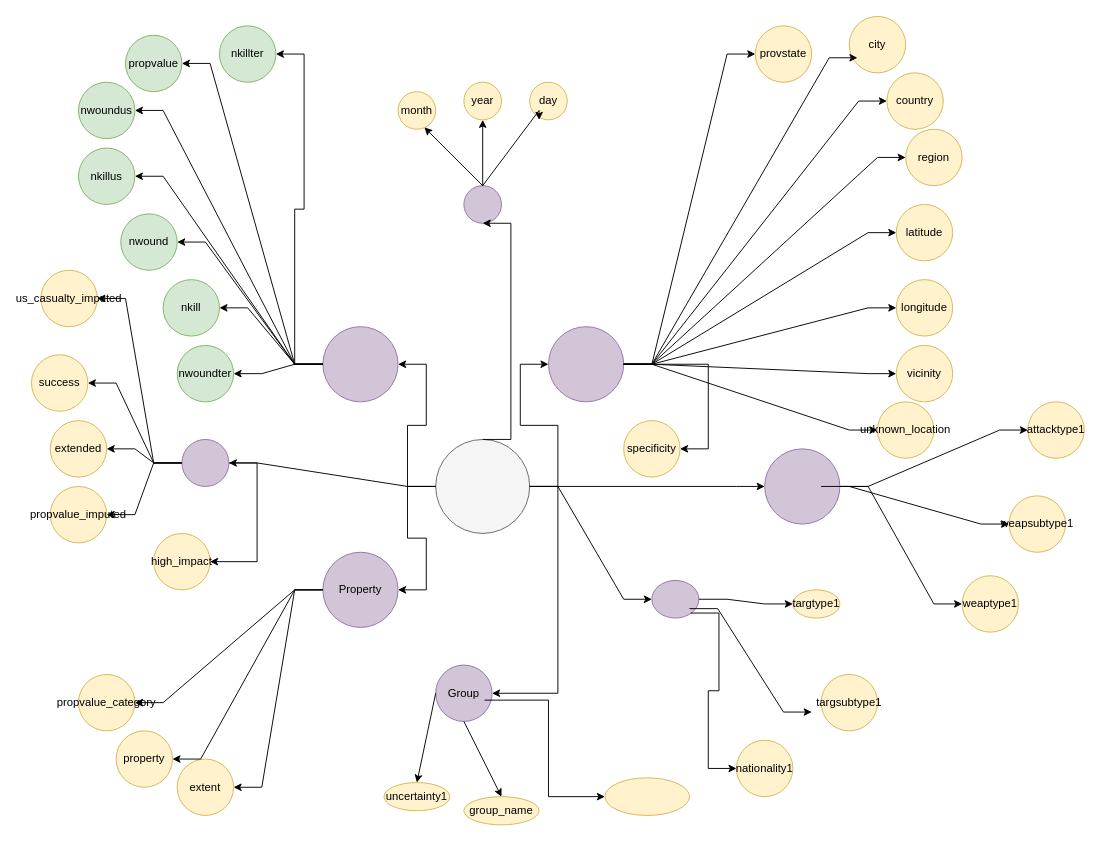
Image size: 1101x841. Some labels were removed from this diagram. Here are the shapes that lost their labels. From the top down, the centre of each, then its label:
At point 482,204: "Time".
At point 360,364: "Measures".
At point 586,364: "Location".
At point 205,462: "Incident".
At point 482,486: "Fact: attack".
At point 802,486: "Attack".
At point 675,599: "Target".
At point 646,796: "unknown_group".
